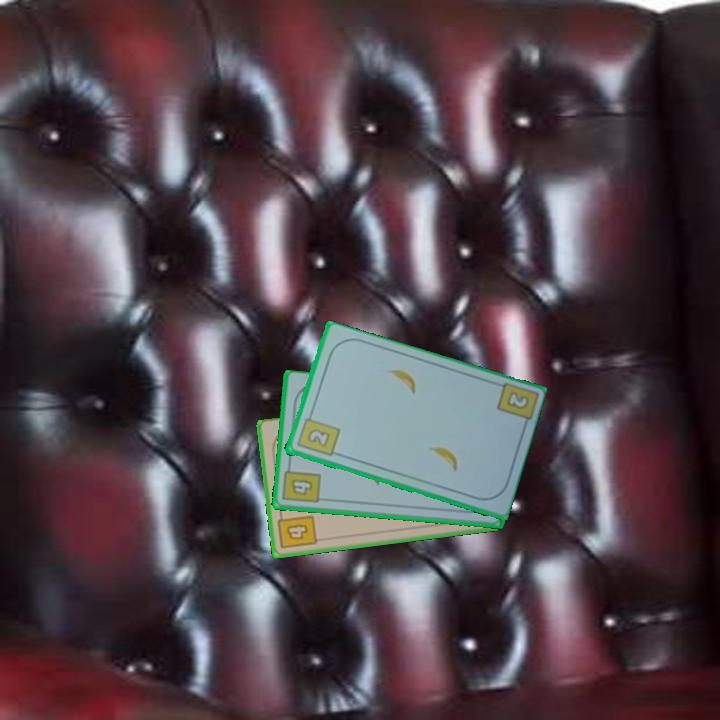2b: (293, 409, 342, 459), (503, 388, 532, 412)
4b: (275, 508, 320, 552), (279, 461, 323, 506)
